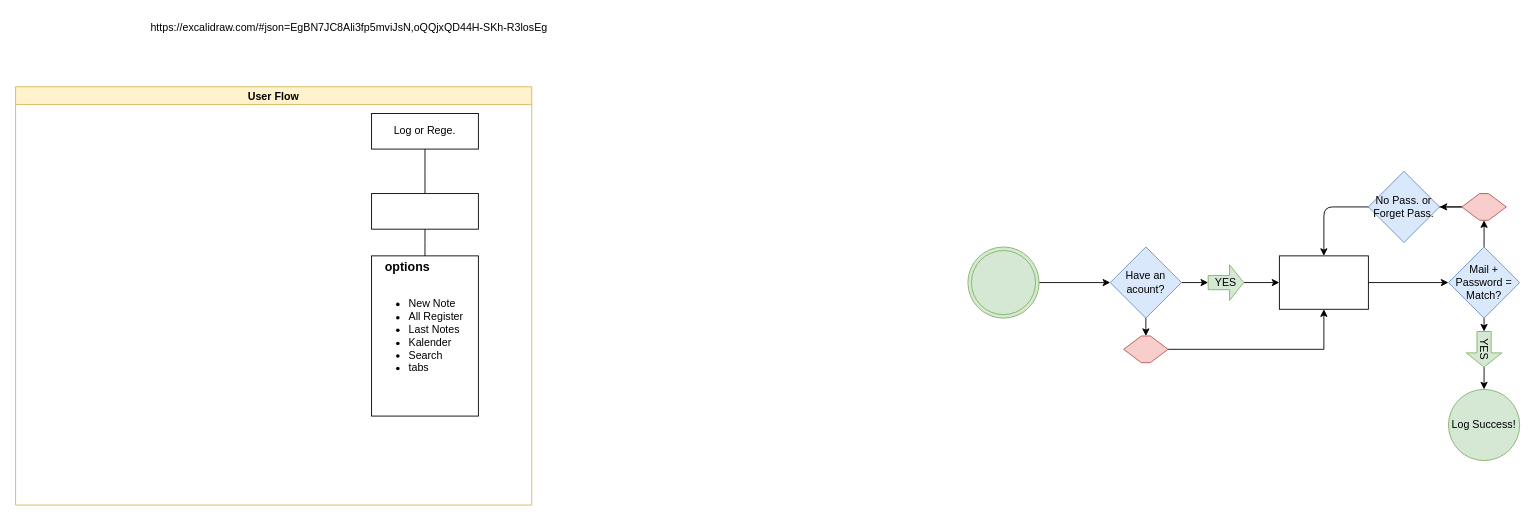
Image size: 1535x521. Some labels were removed from this diagram. The box of each missing label's shape, as (x1, y1, x2, y2) in pixels:
LOG & REG.- Forget Passw. Screen: (1278, 255, 1368, 309)
NO: (1123, 335, 1168, 363)
NO!: (1461, 193, 1506, 220)
User launches app: (967, 246, 1039, 318)
Workspace: (371, 193, 478, 229)
